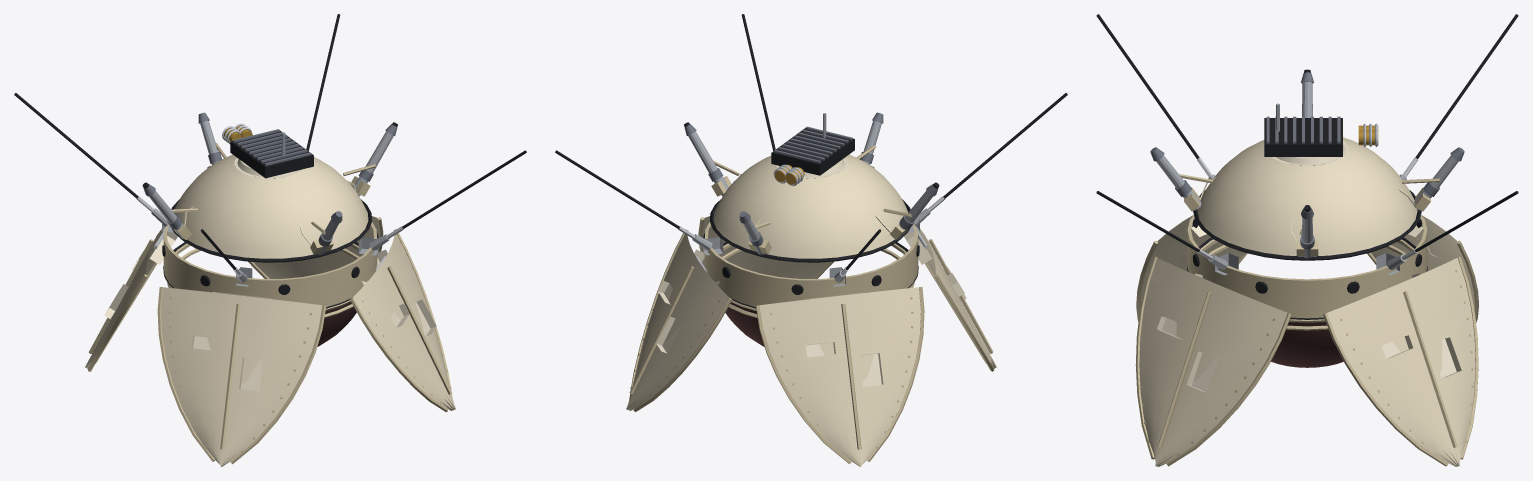
Rendered from mars-3.glb.
3 renders of one model, left to right at view 1: azimuth 30°, elevation 25°; view 2: azimuth 150°, elevation 25°; view 3: azimuth 270°, elevation 25°, orthographic. The views are drawn at different scales.
Visible parts, largest first — view 1: body, foil; view 2: body, foil; view 3: body, foil.
Boxes of the visible parts, x1,y1,x2,y2 form: body: (14,14,526,466); foil: (136,120,403,275); body: (555,14,1067,466); foil: (678,120,945,275); body: (1096,14,1518,466); foil: (1156,82,1458,259).
Size of the model in its own units: 2.14 by 1.69 by 2.14.
